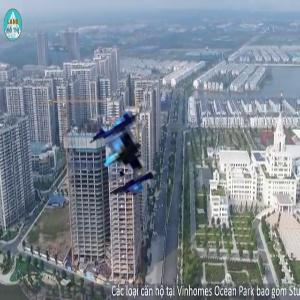drone: (70, 68, 221, 219)
